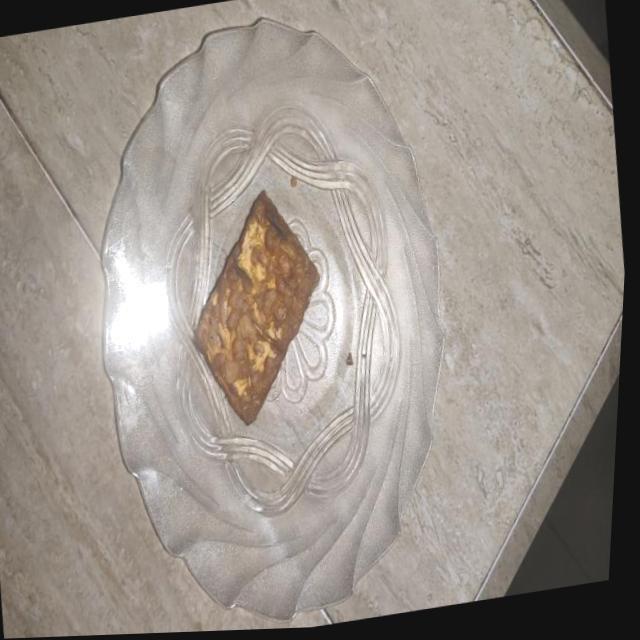tempe_goreng: (195, 192, 319, 424)
